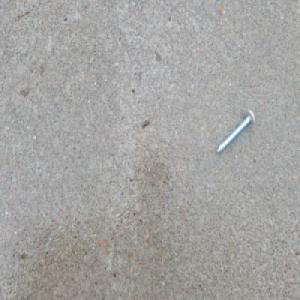Nail: (215, 109, 256, 157)
